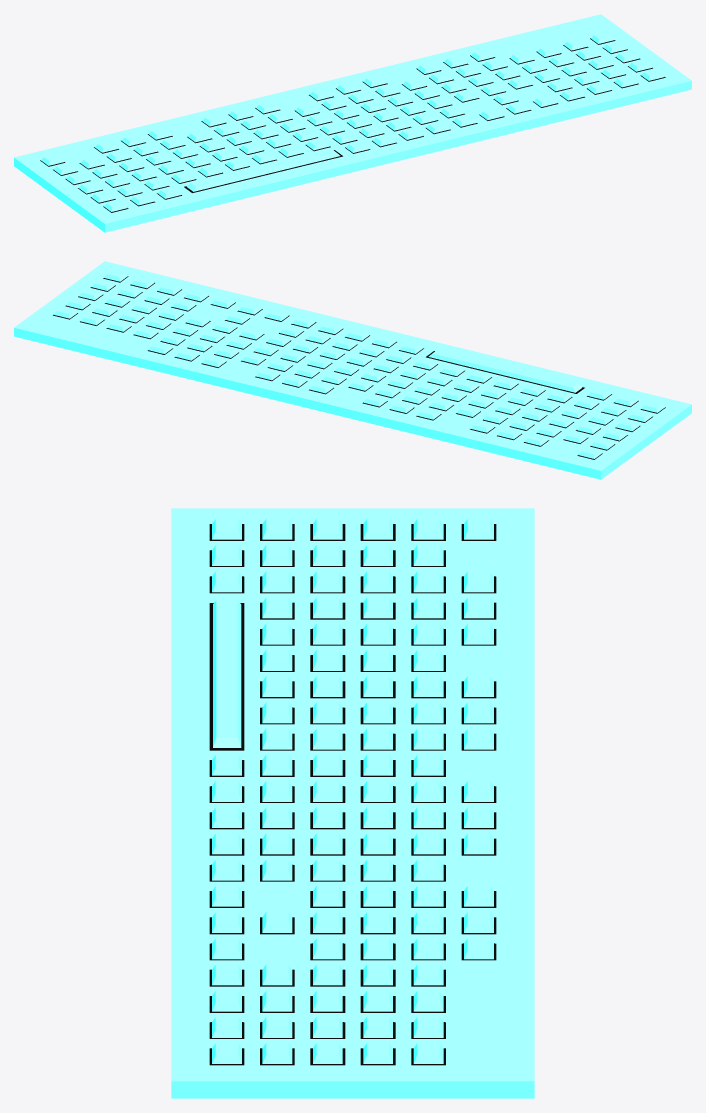
The model's file is Teclado.fbx.
The picture shows the model from 3 angles, top to bottom: view 1: azimuth 30°, elevation 25°; view 2: azimuth 150°, elevation 25°; view 3: azimuth 270°, elevation 25°; orthographic projection. The views are drawn at different scales.
Visible parts, largest first — view 1: keyboard; view 2: keyboard; view 3: keyboard.
Part boxes in pixels (x1,y1,x2,y2): keyboard: [14, 14, 691, 232]; keyboard: [14, 261, 691, 479]; keyboard: [171, 508, 534, 1098].
Size of the model in its own units: 196 by 4.06 by 52.54.
